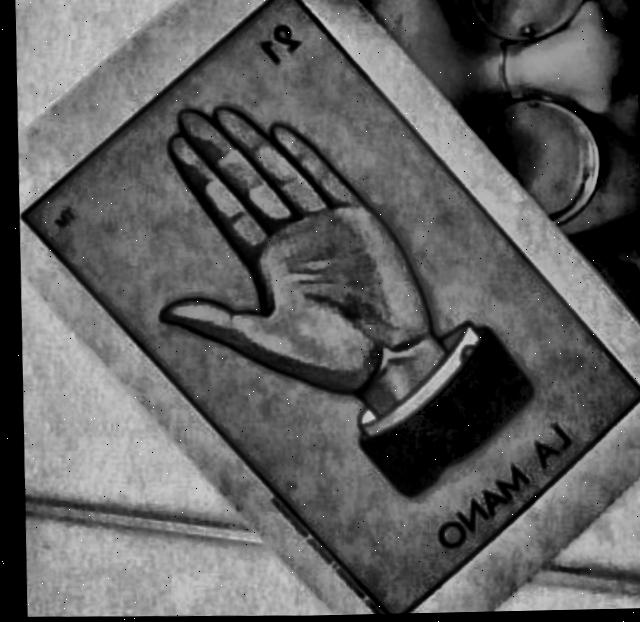La Mano: (23, 0, 640, 616)
